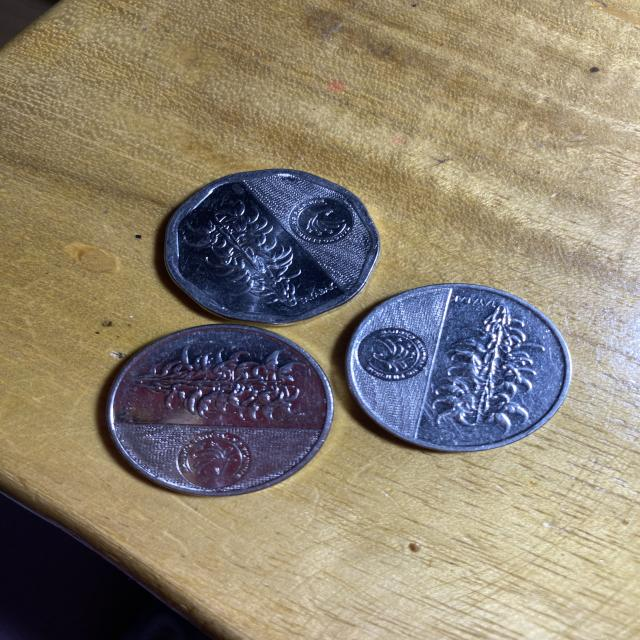5_New_Back: (437, 303, 557, 426), (147, 341, 307, 421), (196, 202, 315, 306)
